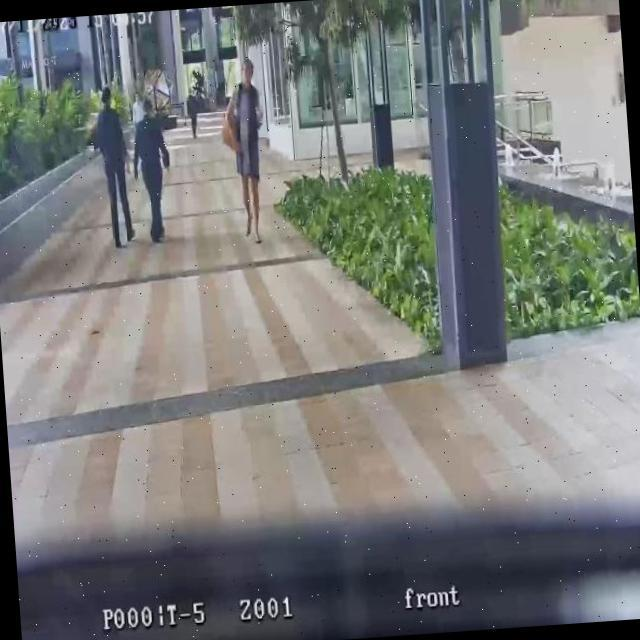person: (225, 58, 272, 246), (128, 96, 176, 244), (94, 88, 136, 248), (130, 92, 146, 128), (188, 92, 199, 140)
